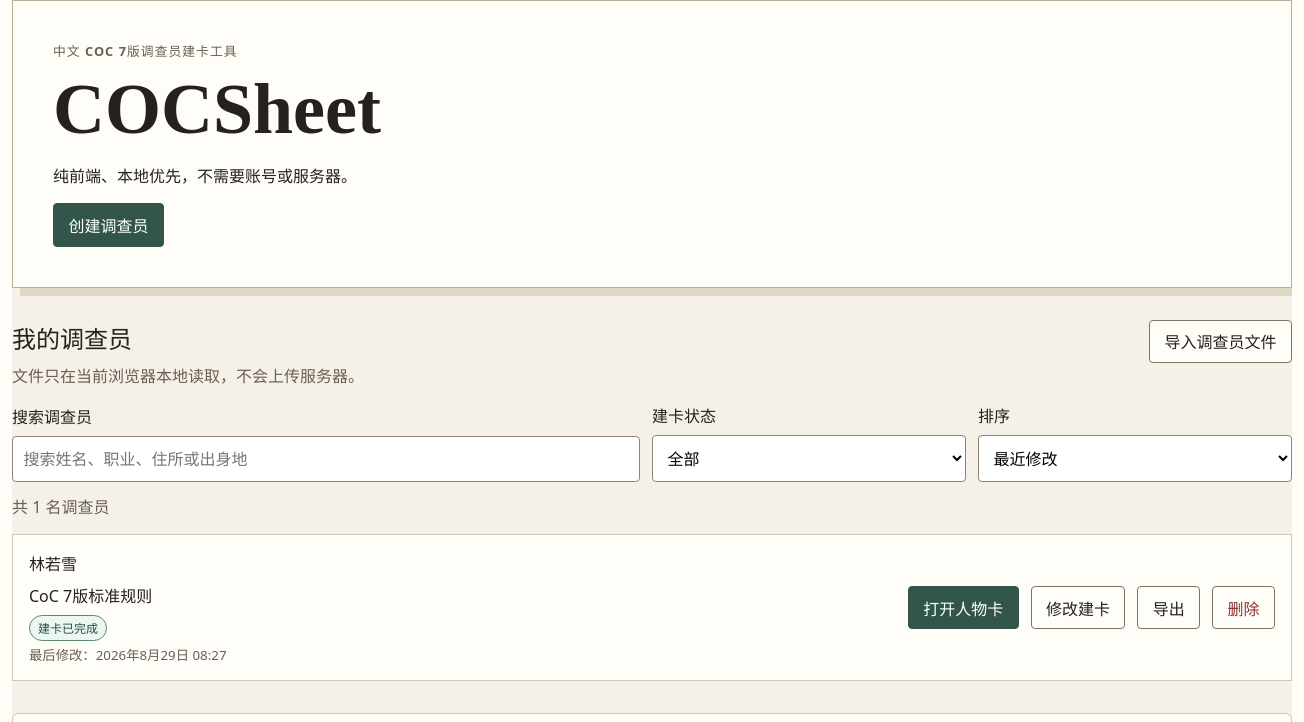
Test: HomePage investigator library browsing › shows filtered-empty state and clears query plus status while preserving sort
Type "不存在" into the search field labelled "搜索调查员".
click(326, 459); type("不存在")  # box [12,436,640,482]
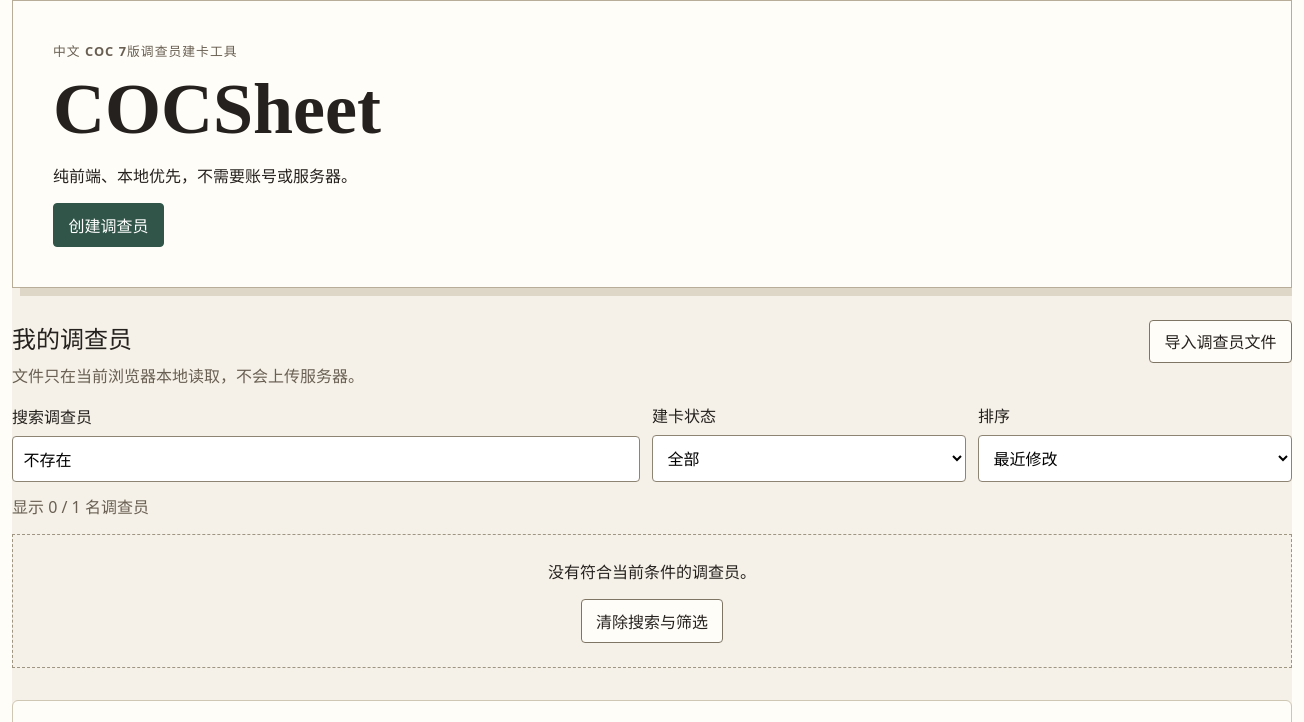
Select "建卡尚未完成" in the dropdown labelled "建卡状态" at [809, 459], box [652,435,966,482]
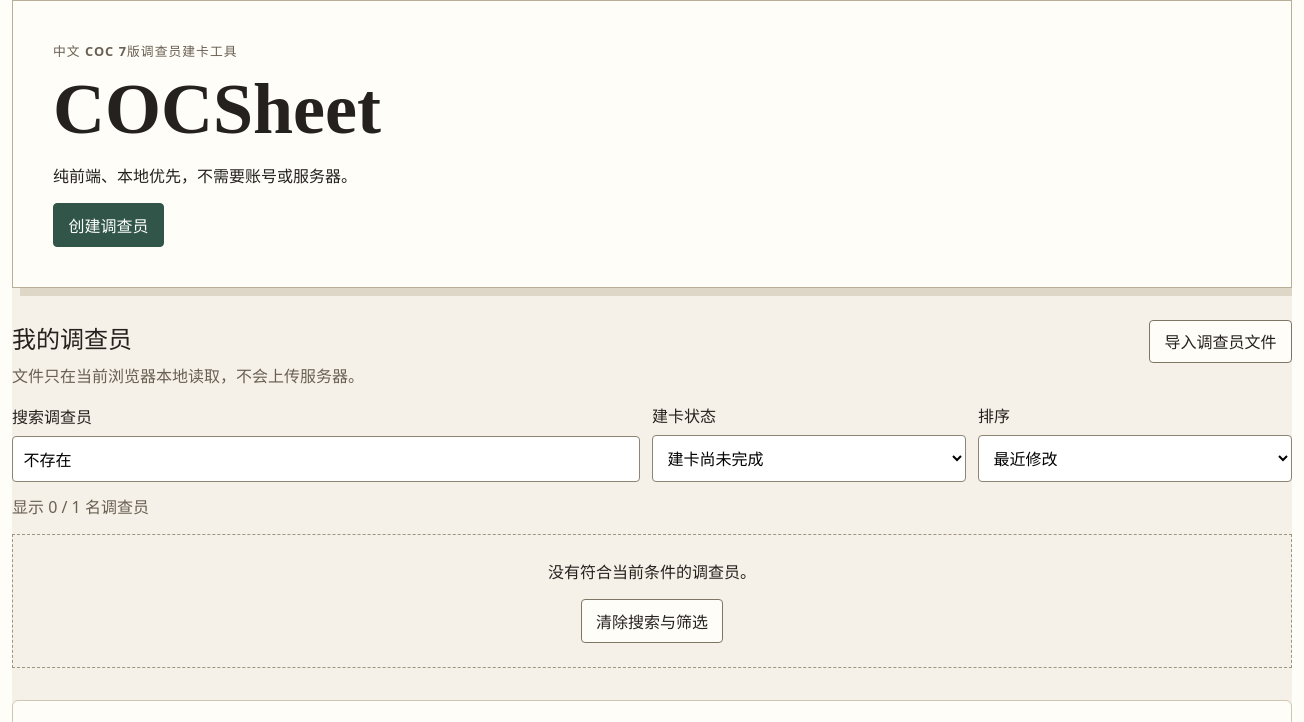
Select "按姓名" in the dropdown labelled "排序" at [1135, 459], box [978,435,1292,482]
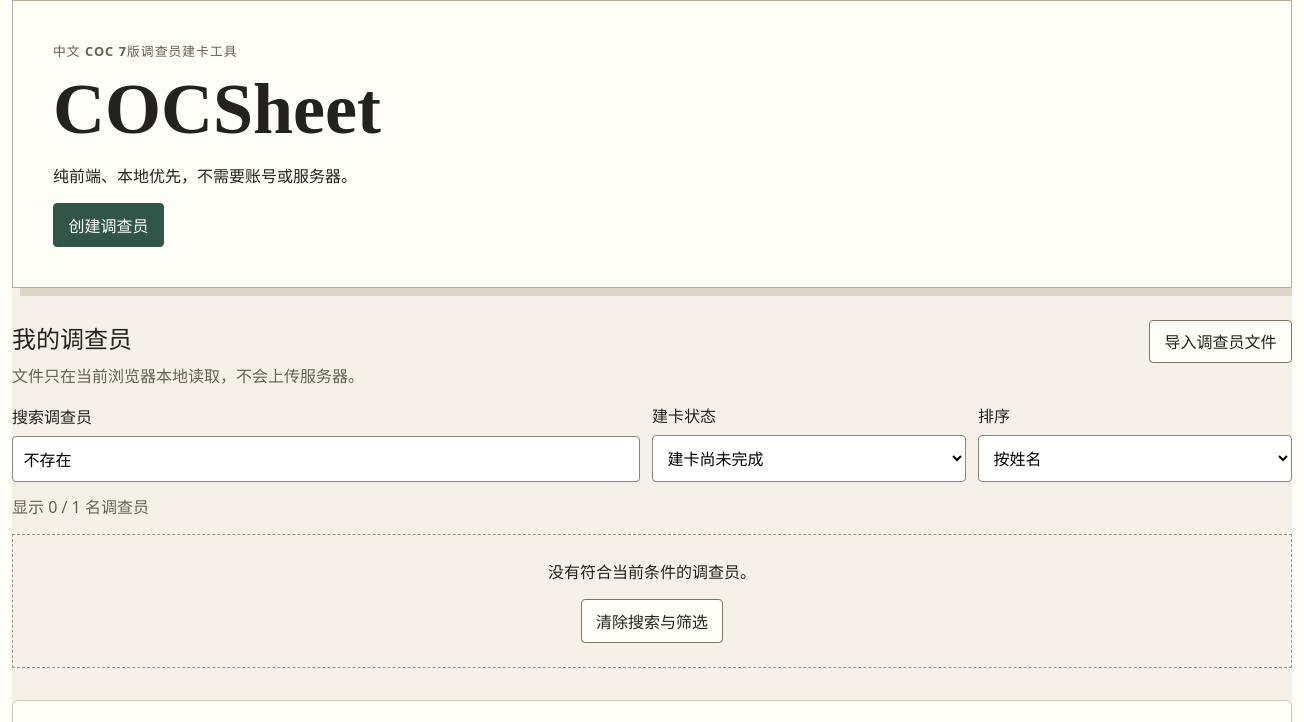
Expected: the text "没有符合当前条件的调查员。" is shown, [548,561,756,583]
Expected: the text "显示 0 / 1 名调查员" is shown, [12,494,149,518]
Click the button "清除搜索与筛选".
click(652, 621)  # box [581,599,723,643]
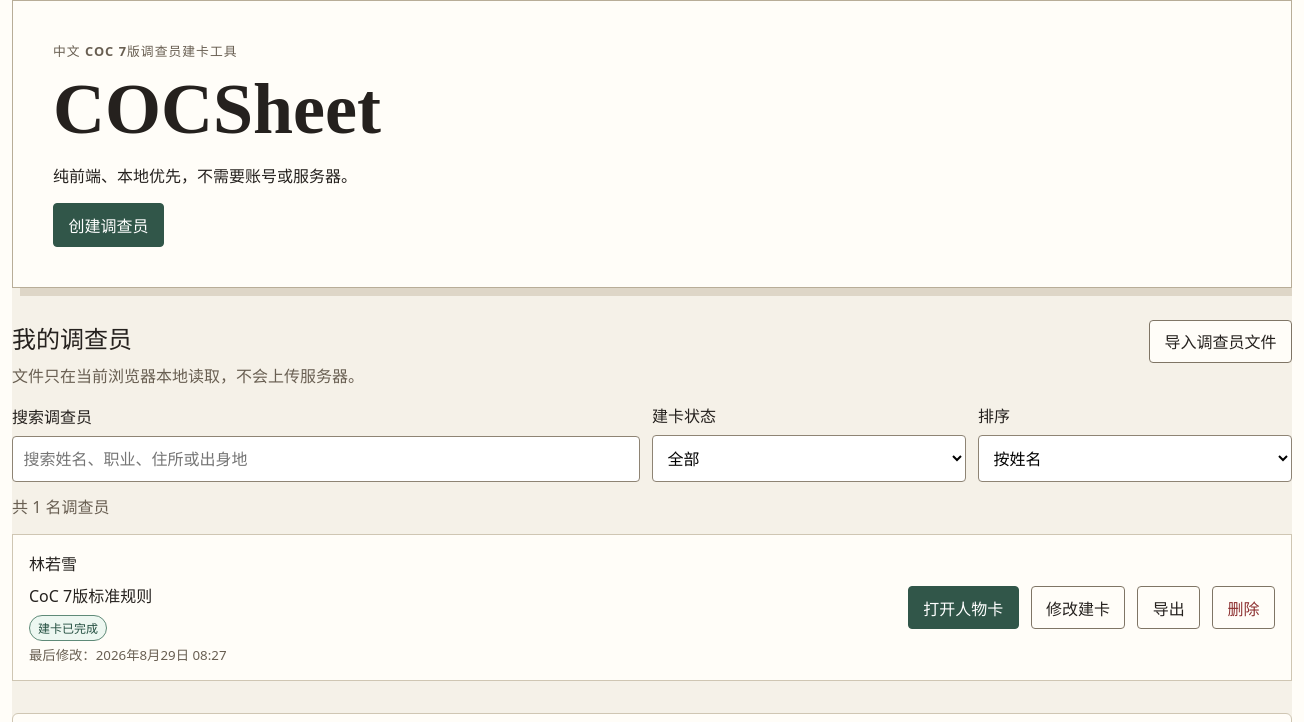
Expected: the search field labelled "搜索调查员" is empty, [12,436,640,482]
Expected: the text "林若雪" is shown, [29,551,77,575]
Expected: the text "共 1 名调查员" is shown, [12,494,110,518]
